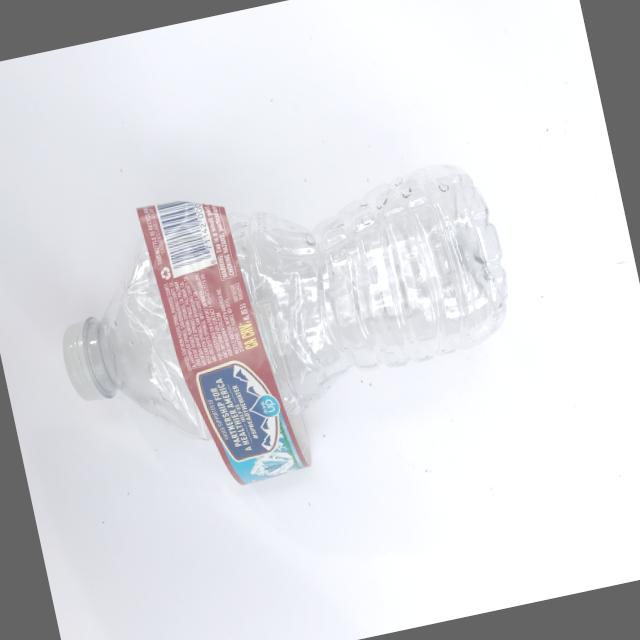Plastic: (23, 101, 557, 540)
